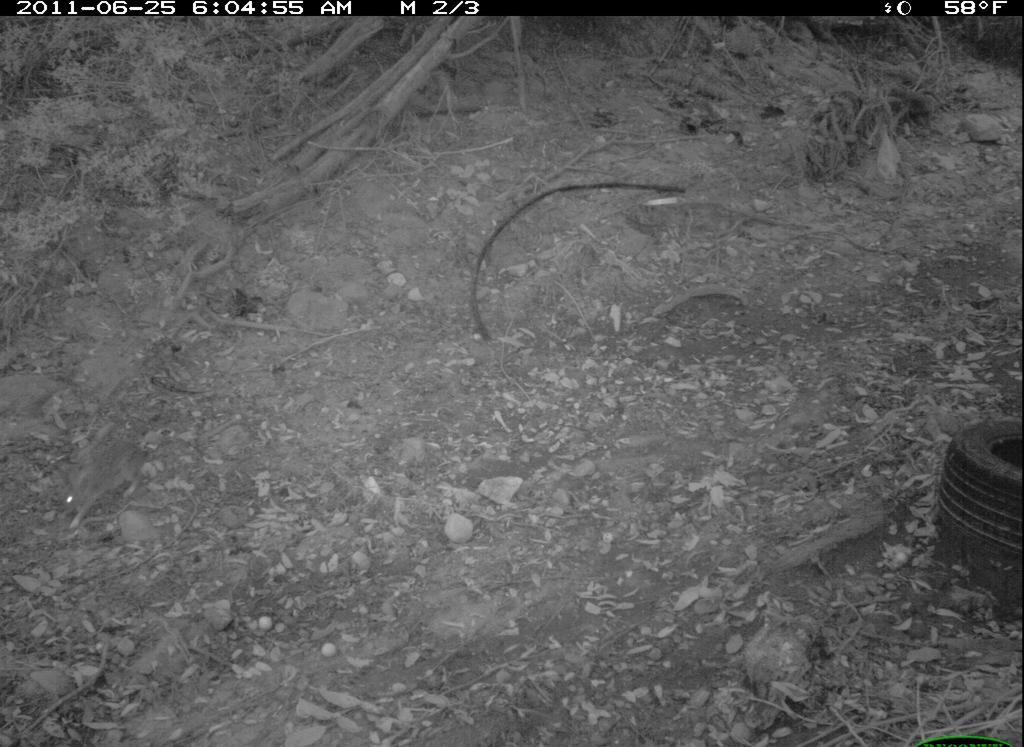rabbit: (48, 431, 155, 536)
